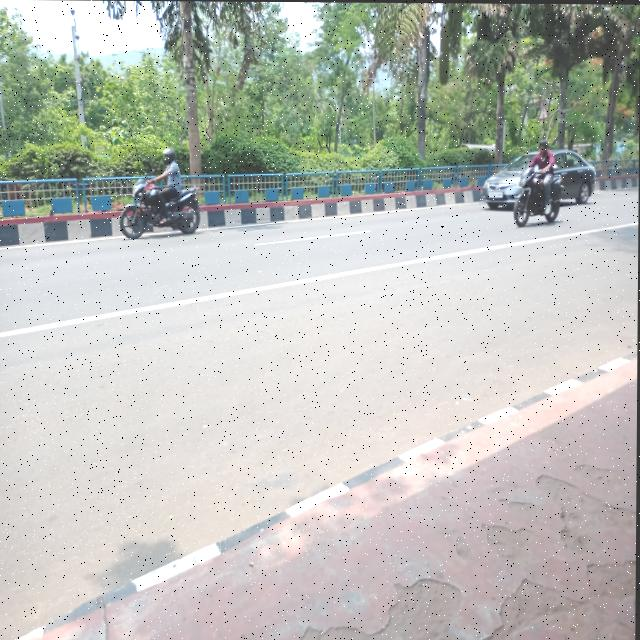bike: (113, 177, 213, 227), (516, 169, 569, 226)
car: (483, 145, 597, 206)
